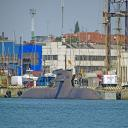submarine: (20, 71, 105, 99)
